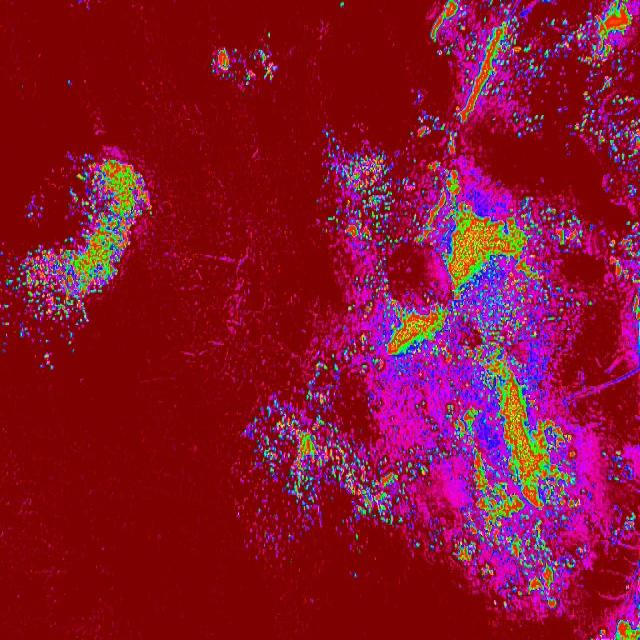fire: (337, 193, 597, 529), (451, 0, 640, 136), (230, 398, 336, 552), (456, 528, 585, 608), (65, 150, 151, 244), (323, 137, 465, 192), (0, 284, 87, 354), (10, 244, 128, 286), (608, 218, 640, 334), (605, 451, 640, 547), (204, 46, 279, 90), (424, 0, 450, 59), (599, 135, 640, 167), (302, 359, 336, 397), (411, 107, 452, 134), (610, 612, 640, 640)
